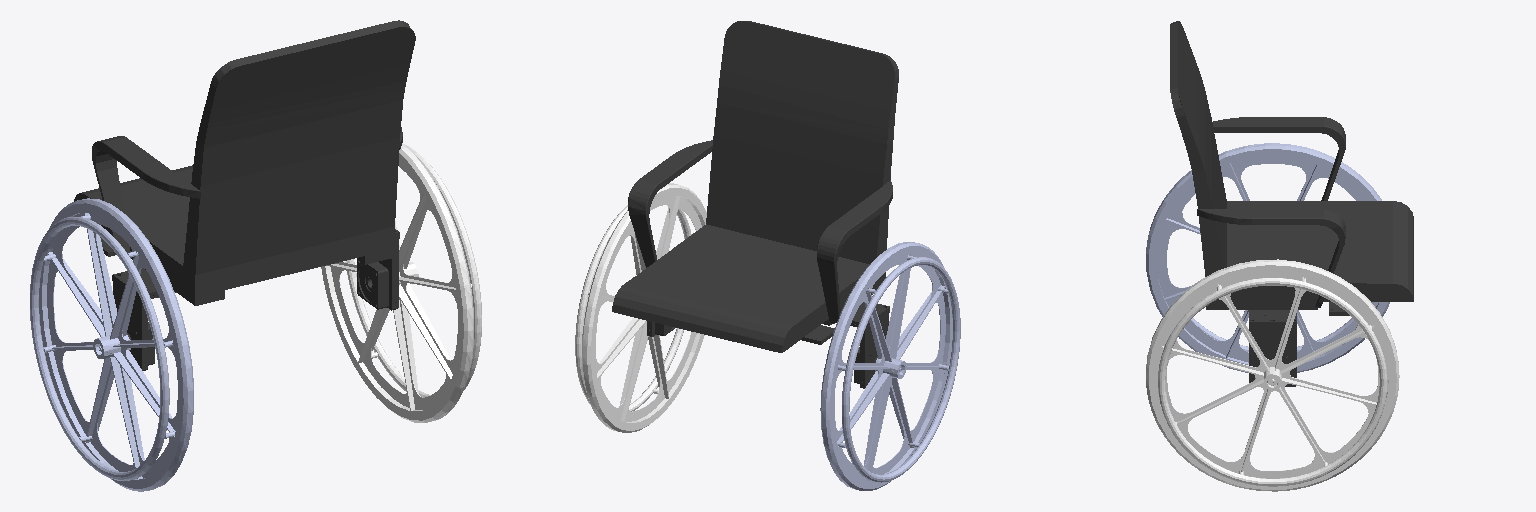
The robot description file, URDF, robot "wheelchair_description":
<?xml version="1.0" encoding="utf-8"?>
<!-- This URDF was automatically created by SolidWorks to URDF Exporter! Originally created by [author] ([email redacted]) 
     Commit Version: 1.6.0-4-g7f85cfe  Build Version: 1.6.7995.38578
     For more information, please see http://wiki.ros.org/sw_urdf_exporter -->
<robot
  name="wheelchair_description">
  <link
    name="base_link">
    <inertial>
      <origin
        xyz="0.00021611 0.006977 0.067688"
        rpy="0 0 0" />
      <mass
        value="42.324" />
      <inertia
        ixx="1.0846"
        ixy="0.0017844"
        ixz="-0.0033103"
        iyy="1.237"
        iyz="0.30961"
        izz="1.41" />
    </inertial>
    <visual>
      <origin
        xyz="0 0 0"
        rpy="0 0 0" />
      <geometry>
        <mesh
          filename="../meshes/base_link.STL" />
      </geometry>
      <material
        name="">
        <color
          rgba="0.29804 0.29804 0.29804 1" />
      </material>
    </visual>
    <collision>
      <origin
        xyz="0 0 0"
        rpy="0 0 0" />
      <geometry>
        <mesh
          filename="../meshes/base_link.STL" />
      </geometry>
    </collision>
  </link>
  <link
    name="left_wheel">
    <inertial>
      <origin
        xyz="-0.0096306 3.6784E-06 1.4766E-06"
        rpy="0 0 0" />
      <mass
        value="1.9904" />
      <inertia
        ixx="0.14025"
        ixy="-4.088E-09"
        ixz="-1.641E-09"
        iyy="0.070242"
        iyz="2.6089E-08"
        izz="0.070242" />
    </inertial>
    <visual>
      <origin
        xyz="0 0 0"
        rpy="0 0 0" />
      <geometry>
        <mesh
          filename="../meshes/left_wheel.STL" />
      </geometry>
      <material
        name="">
        <color
          rgba="0.79608 0.82353 0.93725 1" />
      </material>
    </visual>
    <collision>
      <origin
        xyz="0 0 0"
        rpy="0 0 0" />
      <geometry>
        <mesh
          filename="../meshes/left_wheel.STL" />
      </geometry>
    </collision>
  </link>
  <joint
    name="left_joint"
    type="continuous">
    <origin
      xyz="-0.33 0 -0.11426"
      rpy="0 0 0" />
    <parent
      link="base_link" />
    <child
      link="left_wheel" />
    <axis
      xyz="1 0 0" />
  </joint>
  <link
    name="right_wheel">
    <inertial>
      <origin
        xyz="0.0095306 3.8017E-06 -1.1181E-06"
        rpy="0 0 0" />
      <mass
        value="1.9904" />
      <inertia
        ixx="0.14025"
        ixy="4.2755E-09"
        ixz="-1.2292E-09"
        iyy="0.070242"
        iyz="-2.0414E-08"
        izz="0.070242" />
    </inertial>
    <visual>
      <origin
        xyz="0 0 0"
        rpy="0 0 0" />
      <geometry>
        <mesh
          filename="../meshes/right_wheel.STL" />
      </geometry>
      <material
        name="">
        <color
          rgba="1 1 1 1" />
      </material>
    </visual>
    <collision>
      <origin
        xyz="0 0 0"
        rpy="0 0 0" />
      <geometry>
        <mesh
          filename="../meshes/right_wheel.STL" />
      </geometry>
    </collision>
  </link>
  <joint
    name="right_joint"
    type="continuous">
    <origin
      xyz="0.33 0 -0.11426"
      rpy="0 0 0" />
    <parent
      link="base_link" />
    <child
      link="right_wheel" />
    <axis
      xyz="1 0 0" />
  </joint>
</robot>

--- What the picture shows (computed from the rendered views, not written in the file) ---
The picture shows the robot from 3 angles, left to right: view 1: azimuth 30°, elevation 25°; view 2: azimuth 150°, elevation 25°; view 3: azimuth 270°, elevation 25°; orthographic projection.
Model wheelchair_description with 3 links and 2 joints (2 continuous), rooted at base_link, posed every joint at zero.
Links seen in each view (by area): view 1: base_link, left_wheel, right_wheel; view 2: base_link, left_wheel, right_wheel; view 3: base_link, right_wheel, left_wheel.
Boxes of the visible links, bbox=[...] form: base_link: bbox=[74, 20, 415, 370]; left_wheel: bbox=[30, 198, 193, 491]; right_wheel: bbox=[321, 143, 481, 422]; base_link: bbox=[612, 21, 898, 388]; left_wheel: bbox=[820, 242, 960, 490]; right_wheel: bbox=[575, 183, 706, 432]; base_link: bbox=[1170, 21, 1413, 386]; right_wheel: bbox=[1146, 259, 1399, 491]; left_wheel: bbox=[1146, 143, 1389, 372].
Size in the robot's own frame: 0.7551 by 0.6448 by 1 metres.
Meshes: 3 distinct files referenced, 3 mesh visuals loaded (3 binary STL).